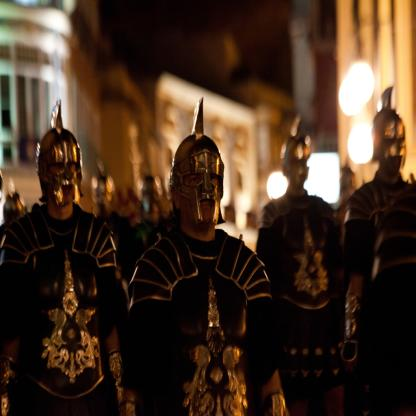Helmet: (169, 97, 224, 221), (35, 96, 85, 209), (368, 86, 407, 165), (281, 118, 310, 179), (90, 158, 114, 214), (2, 178, 23, 222), (140, 172, 164, 210), (340, 164, 356, 190)
